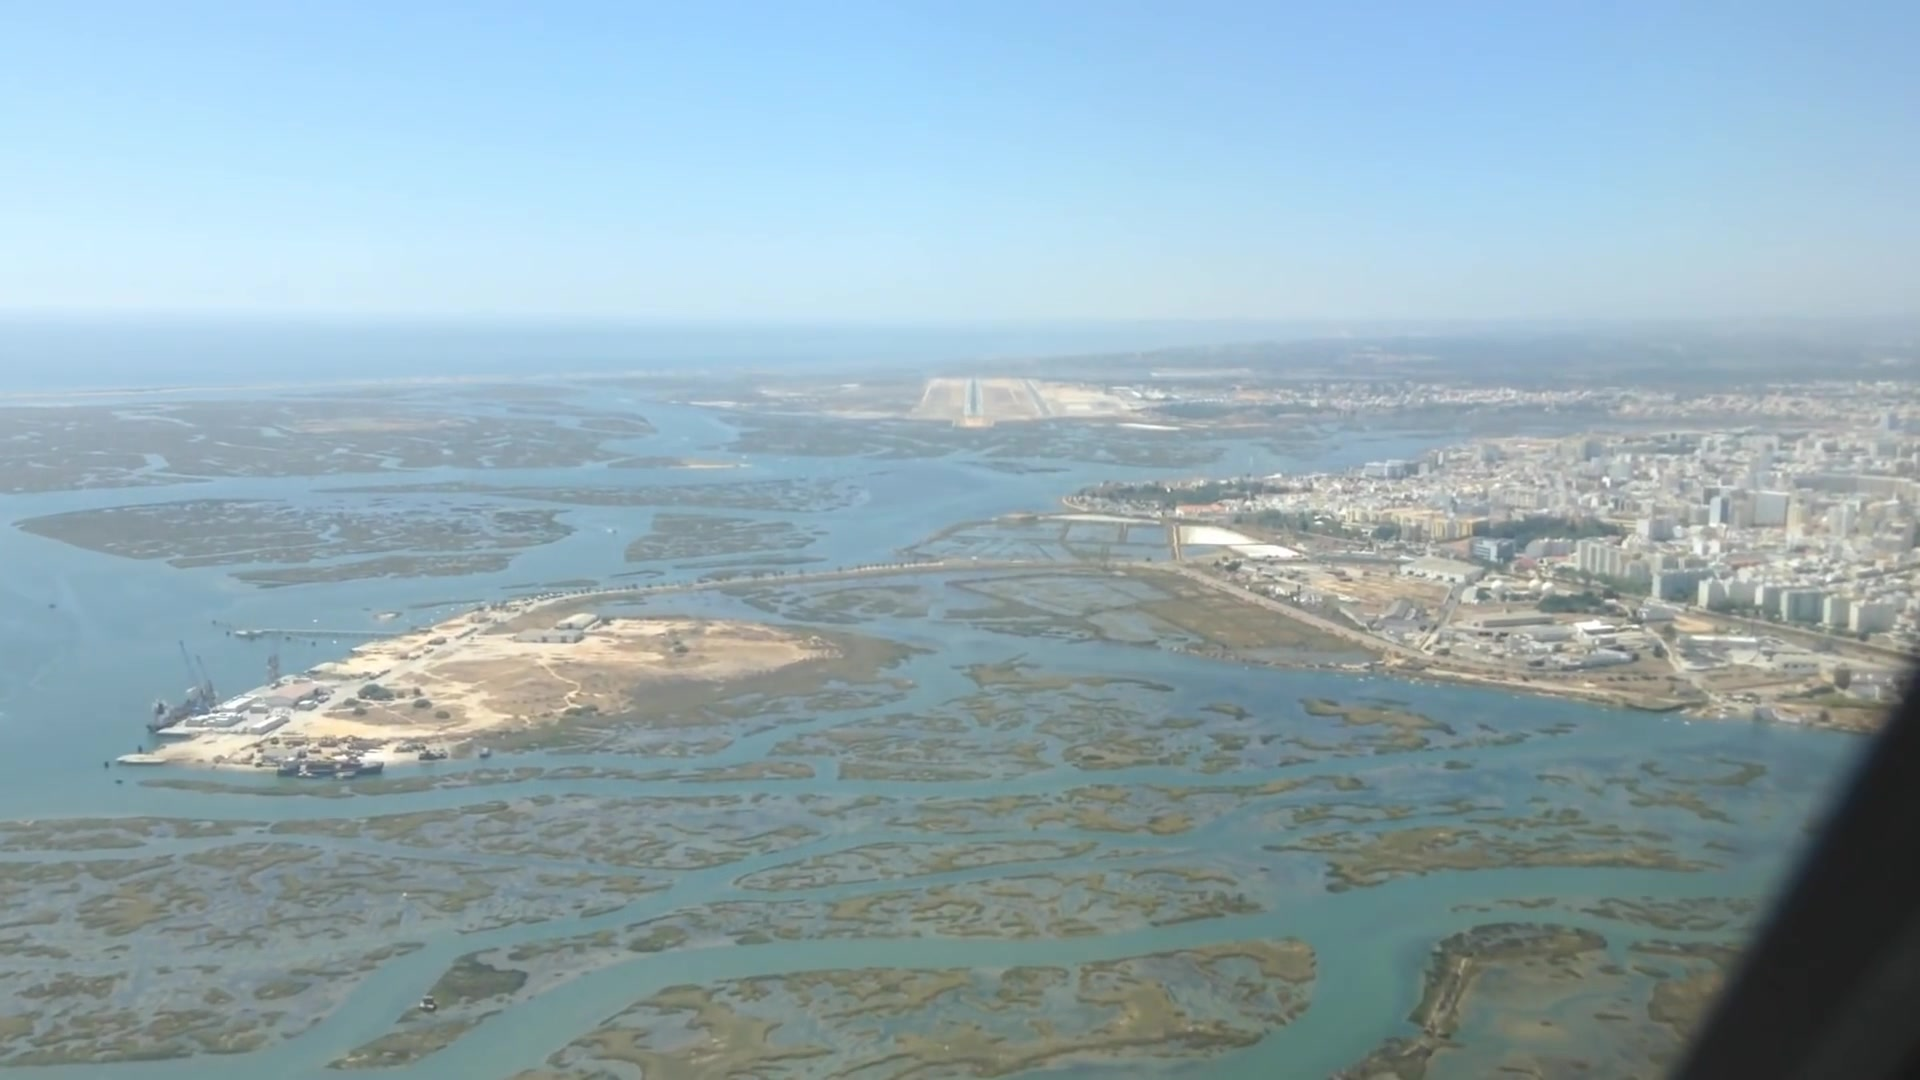runway: (1021, 380, 1059, 419), (959, 375, 986, 423)
